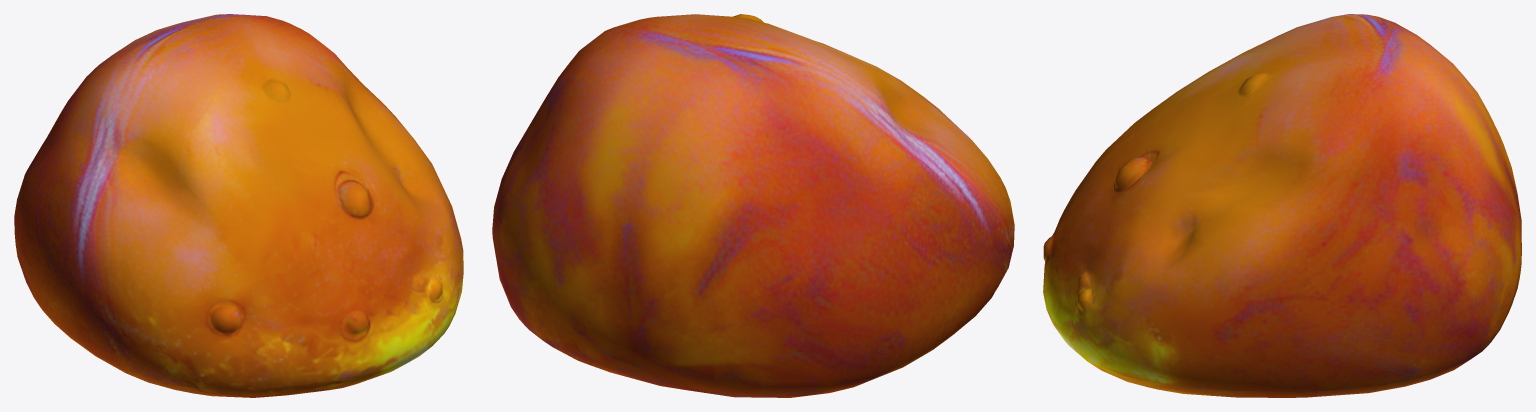
Rendered from SugarBlob.glb.
The picture shows the model from 3 angles, left to right: view 1: azimuth 30°, elevation 25°; view 2: azimuth 150°, elevation 25°; view 3: azimuth 270°, elevation 25°; orthographic projection. The views are drawn at different scales.
Size of the model in its own units: 1.89 by 1.31 by 1.99.
1 material, 1 textured.
